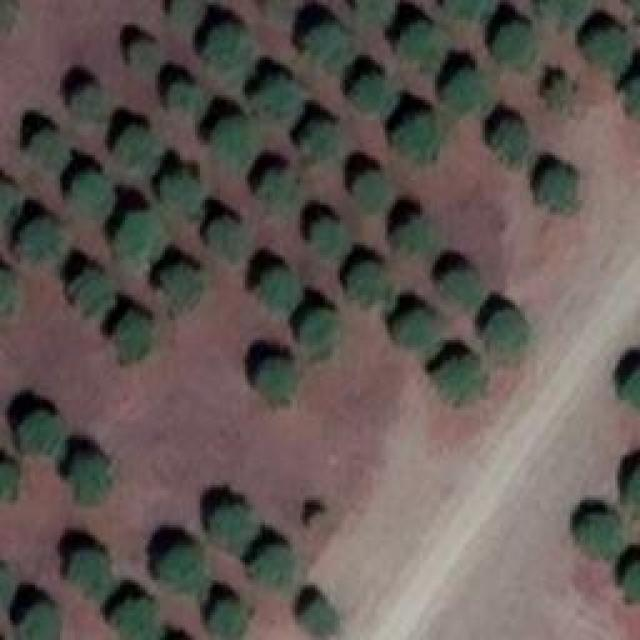Tree: (385, 105, 438, 165), (20, 213, 73, 268), (13, 410, 68, 463), (485, 307, 533, 365), (68, 168, 118, 223), (248, 73, 298, 128), (250, 263, 303, 313), (583, 25, 636, 75), (155, 543, 208, 593), (115, 210, 160, 268), (300, 22, 353, 70), (397, 20, 445, 73), (63, 268, 113, 318), (433, 348, 483, 398), (253, 355, 298, 410), (385, 310, 440, 355), (210, 115, 258, 165), (533, 165, 583, 213), (248, 545, 298, 593), (110, 310, 155, 363), (155, 260, 200, 313), (203, 503, 256, 548), (202, 20, 250, 68), (572, 512, 620, 560), (440, 65, 485, 115), (65, 450, 110, 500), (295, 308, 340, 358), (115, 125, 163, 170), (152, 168, 200, 213), (490, 20, 535, 68), (62, 550, 110, 595), (345, 255, 388, 305), (300, 115, 343, 163), (208, 215, 251, 263), (480, 115, 525, 160), (385, 213, 435, 253), (350, 170, 395, 213), (438, 268, 481, 311), (117, 597, 160, 640), (303, 215, 348, 255), (257, 168, 295, 211), (352, 68, 390, 111), (15, 602, 58, 640), (210, 600, 250, 640), (28, 128, 63, 173), (295, 600, 335, 638), (540, 78, 575, 121), (75, 80, 108, 123), (540, 0, 585, 30), (168, 77, 201, 115), (123, 38, 158, 73), (0, 270, 22, 320), (162, 0, 200, 28), (0, 175, 22, 220), (0, 462, 22, 507), (622, 463, 640, 518), (622, 360, 640, 415), (445, 0, 490, 20), (625, 62, 640, 120), (353, 0, 393, 20), (622, 0, 639, 32), (0, 565, 15, 598), (0, 0, 15, 32), (262, 0, 290, 15)
